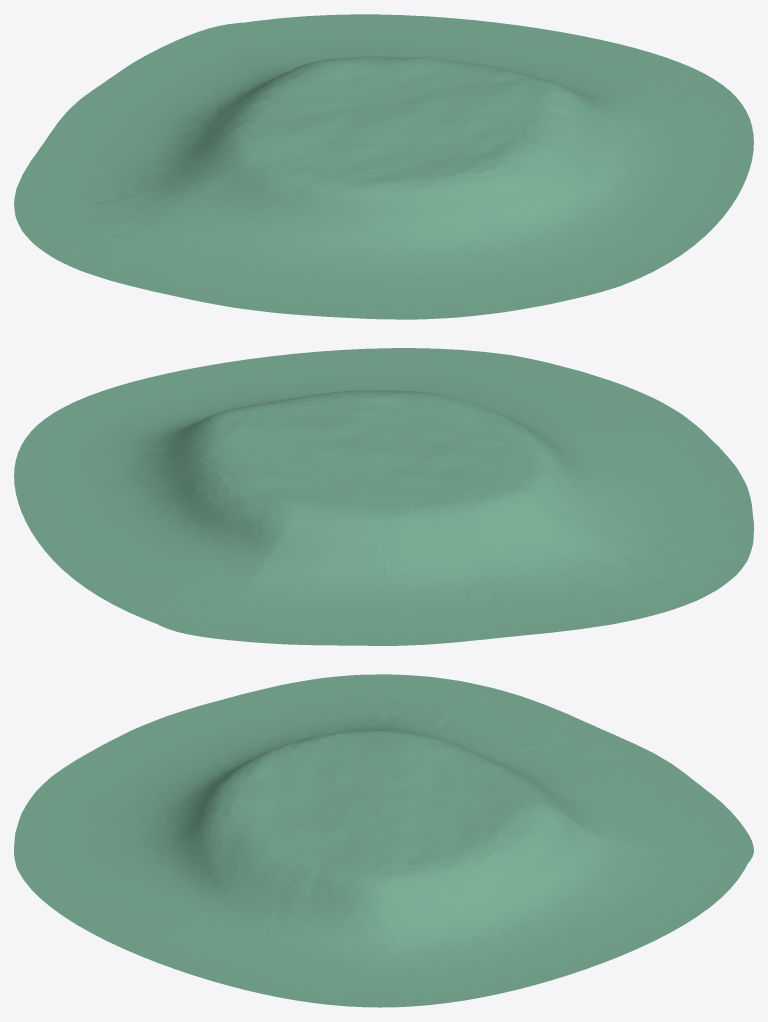
File: island_circular_B_C.fbx
The picture shows the model from 3 angles, top to bottom: view 1: azimuth 30°, elevation 25°; view 2: azimuth 150°, elevation 25°; view 3: azimuth 270°, elevation 25°; orthographic projection.
Visible parts, largest first — view 1: island_circular_B_C; view 2: island_circular_B_C; view 3: island_circular_B_C.
Boxes of the visible parts, x1=… form: island_circular_B_C: x1=14, y1=14, x2=753, y2=319; island_circular_B_C: x1=14, y1=348, x2=753, y2=645; island_circular_B_C: x1=14, y1=674, x2=753, y2=1007.
Size of the model in its own units: 30011 by 1915 by 28178.
